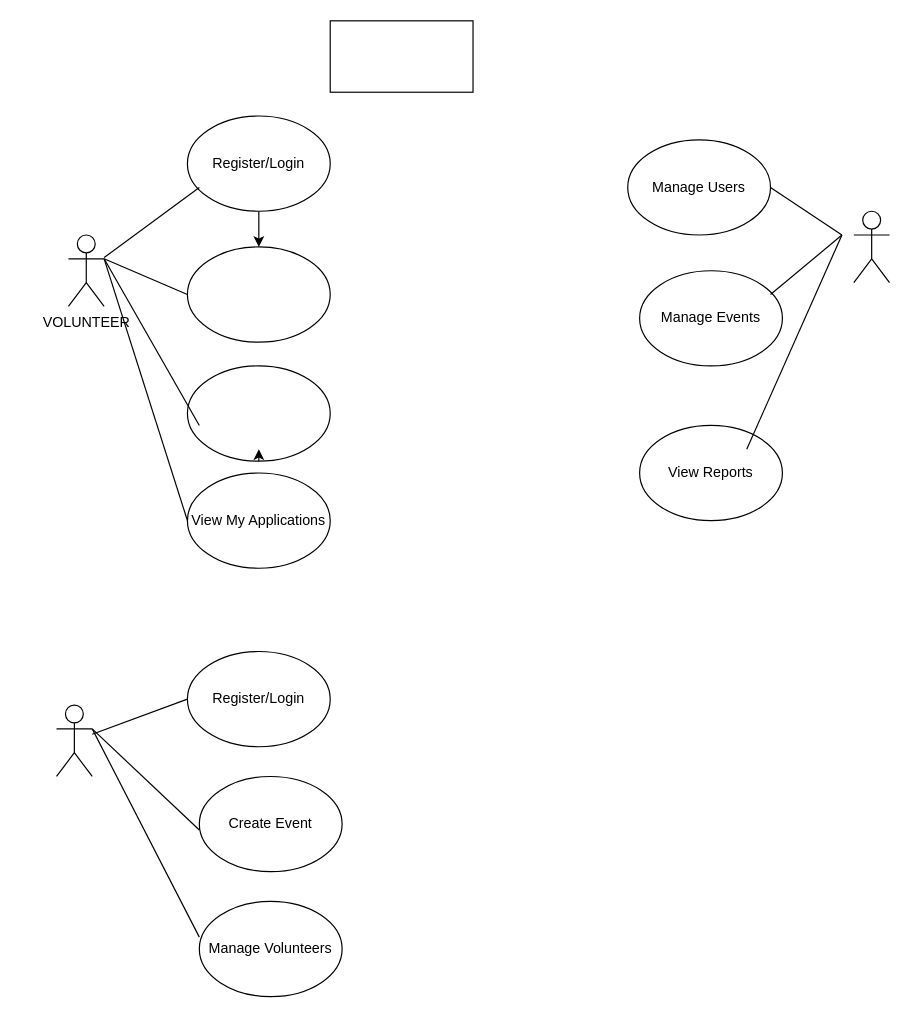
Image size: 915x1017. Some labels were removed from this diagram. Here are the shapes that lost their labels. From the top down, the centre of each, then its label:
At pixel 401 56: "VOLUNTEER COMMUNITY NETWORK PLATFORM".
At pixel 871 246: "ADMIN".
At pixel 258 294: "View Events".
At pixel 258 413: "Apply for Event".
At pixel 73 740: "ORGANIZATION".
